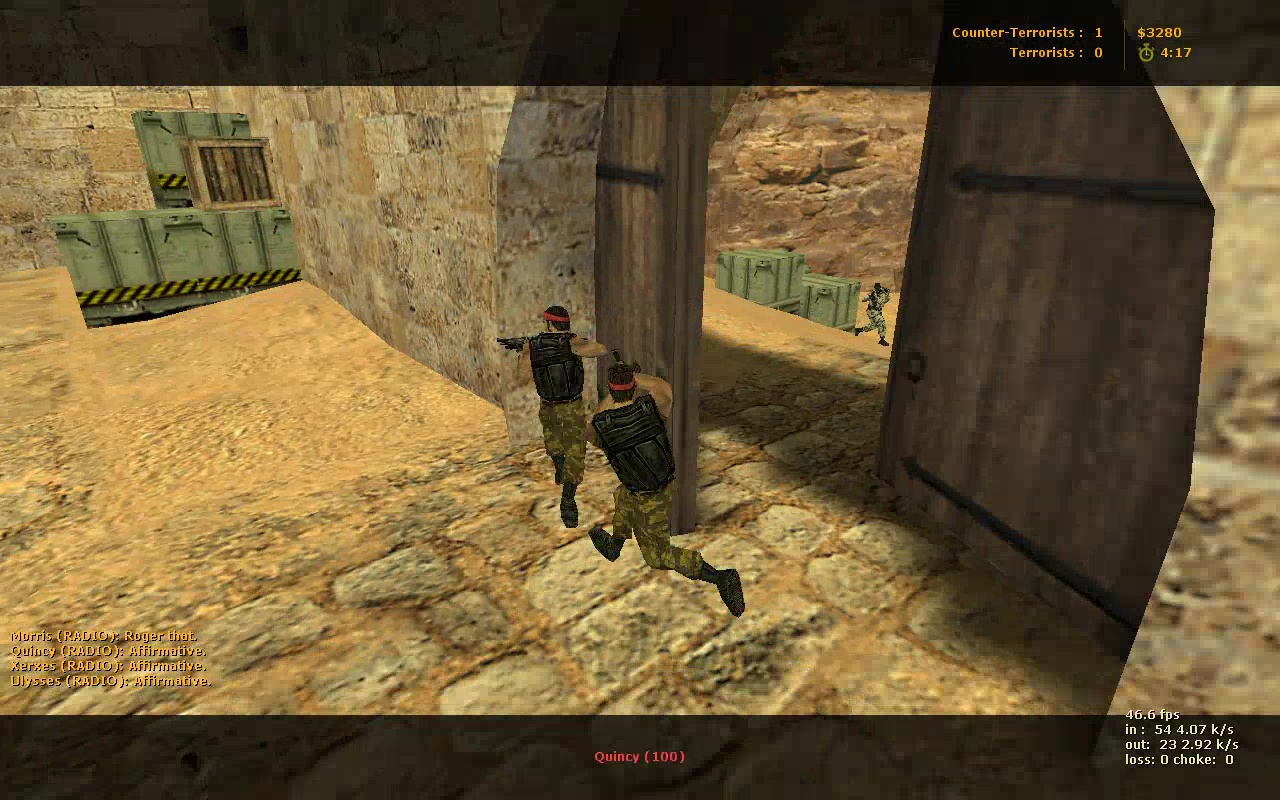terr1: (587, 358, 756, 614), (505, 301, 606, 522)
terr2: (864, 280, 888, 340)
